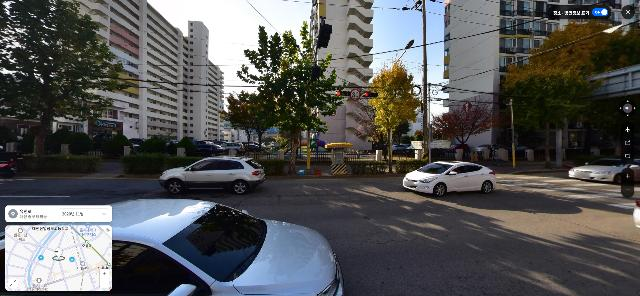ginkgo: (499, 17, 607, 168), (369, 59, 420, 172)
other: (0, 0, 127, 155), (236, 19, 342, 175), (430, 96, 499, 160), (219, 93, 278, 155)
